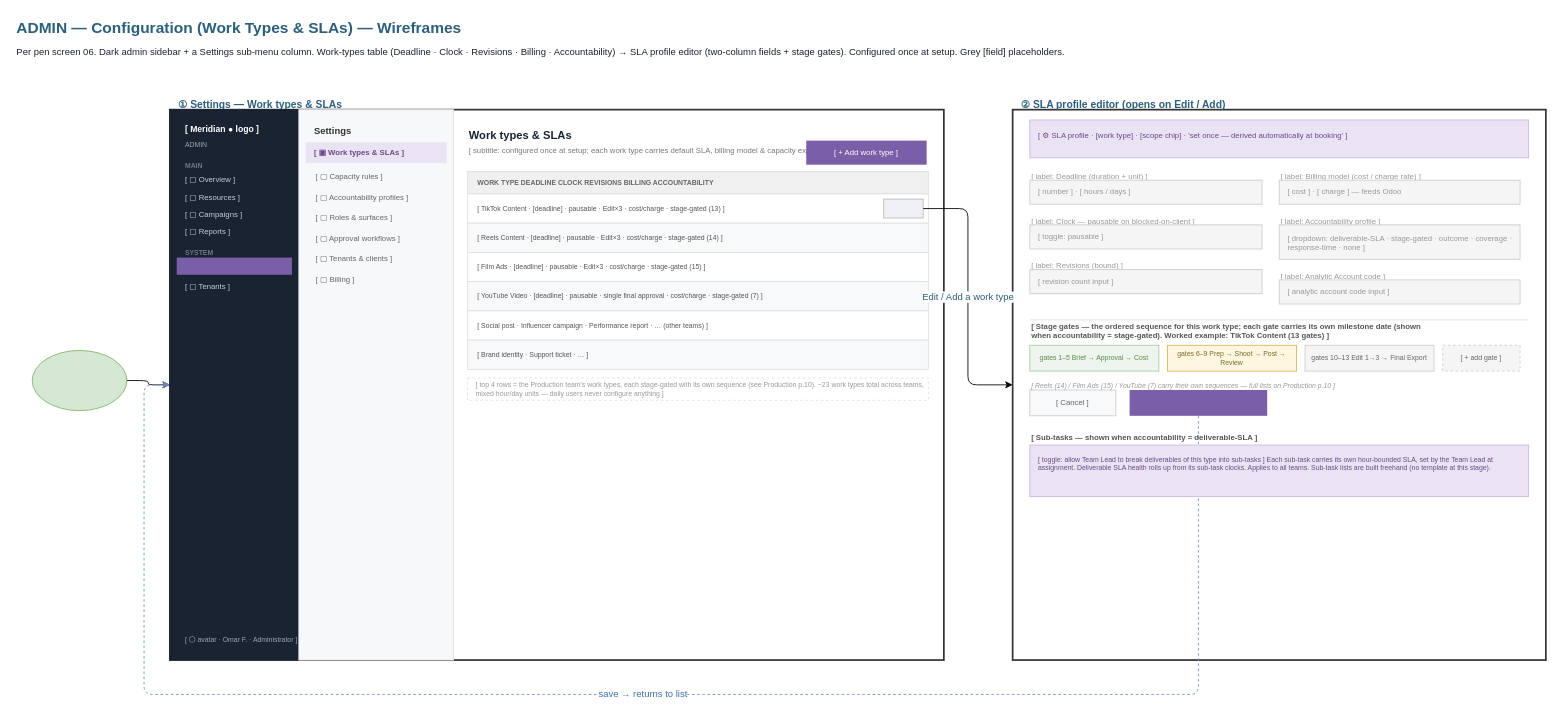
This 1561x716 diagram has some shape labels left out. The centre of each missing label's shape, as x and y in pixels:
"[ edit ]" goes at point 903,208.
"[ primary button: Save profile ]" goes at point 1198,402.
"[ ▣ Settings ]" goes at point 234,265.
"From login (Admin)" goes at point 79,380.
